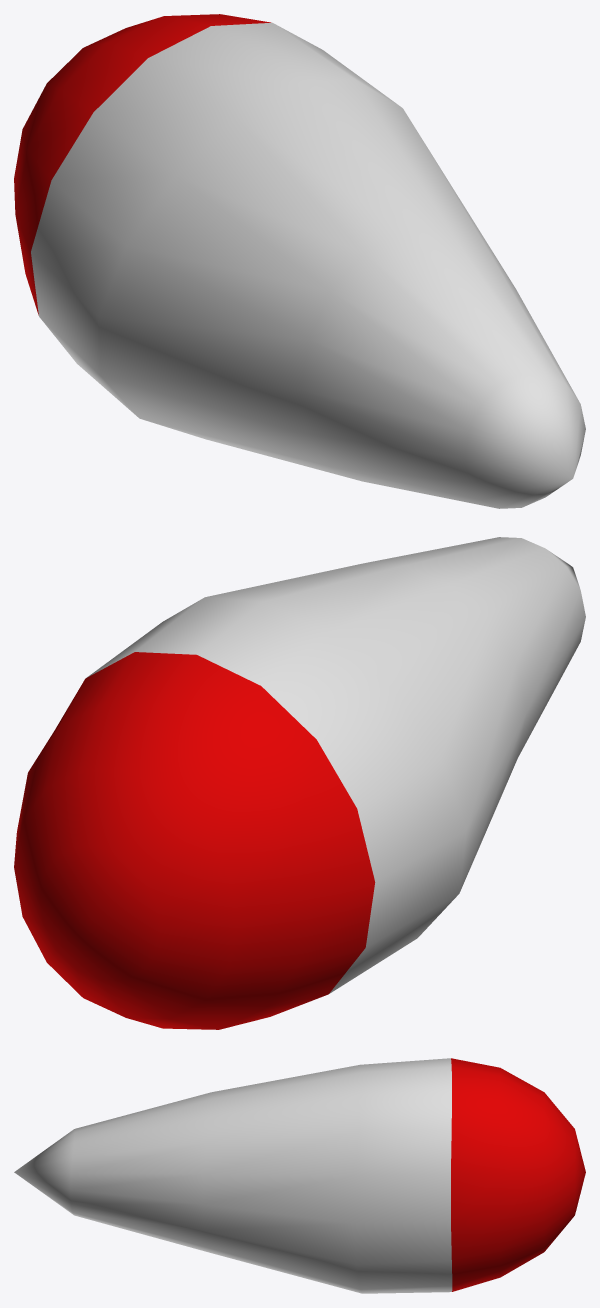
Rendered from Plasma_projectile.fbx.
3 views of the same model, one above another, from view 1: azimuth 30°, elevation 25°; view 2: azimuth 150°, elevation 25°; view 3: azimuth 270°, elevation 25° (orthographic). The views are drawn at different scales.
Visible parts, largest first — view 1: Sphere; view 2: Sphere; view 3: Sphere.
Part boxes in pixels (bbox=[...]): Sphere: bbox=[14, 14, 585, 508]; Sphere: bbox=[14, 537, 585, 1029]; Sphere: bbox=[14, 1058, 585, 1293].
Bounding box in the file's own units: 44.31 × 18.38 × 18.23.
